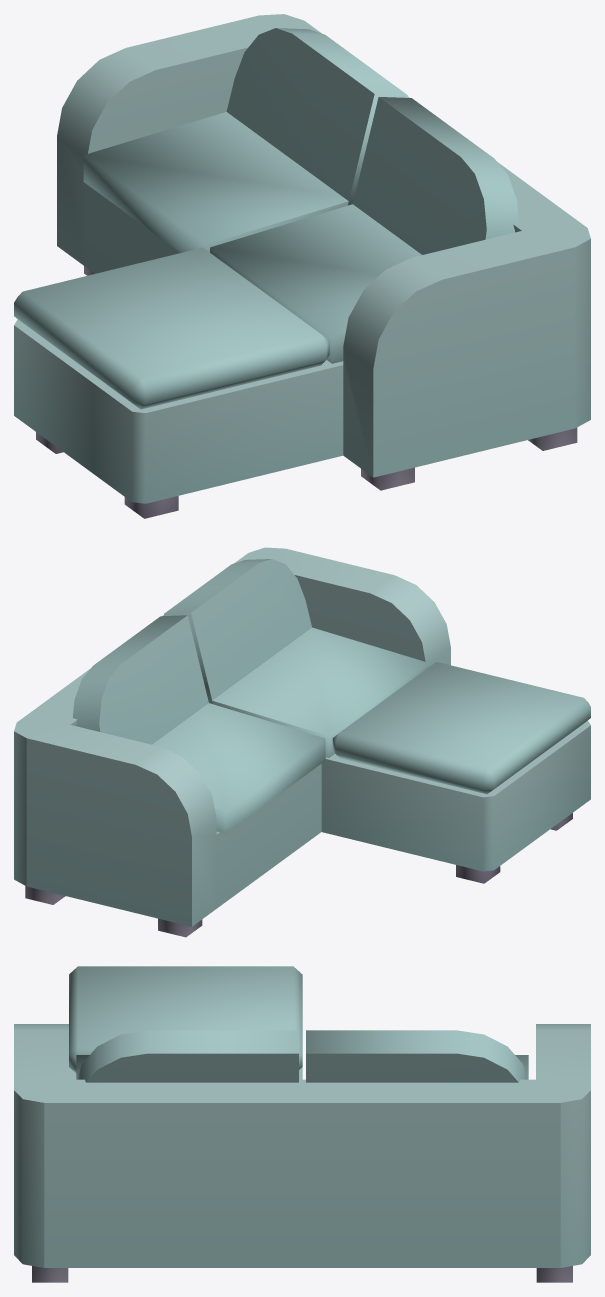
Rendered from budapest-sofa-lounge.glb.
3 views of the same model, one above another, from view 1: azimuth 30°, elevation 25°; view 2: azimuth 150°, elevation 25°; view 3: azimuth 270°, elevation 25° (orthographic). The views are drawn at different scales.
Parts seen in each view (by area): view 1: budapest-sofa-lounge; view 2: budapest-sofa-lounge; view 3: budapest-sofa-lounge.
Part boxes in pixels (x1,y1,x2,y2): budapest-sofa-lounge: [14, 14, 590, 518]; budapest-sofa-lounge: [14, 547, 590, 937]; budapest-sofa-lounge: [14, 966, 590, 1282].
Size of the model in its own units: 1.27 by 0.6995 by 1.6.
